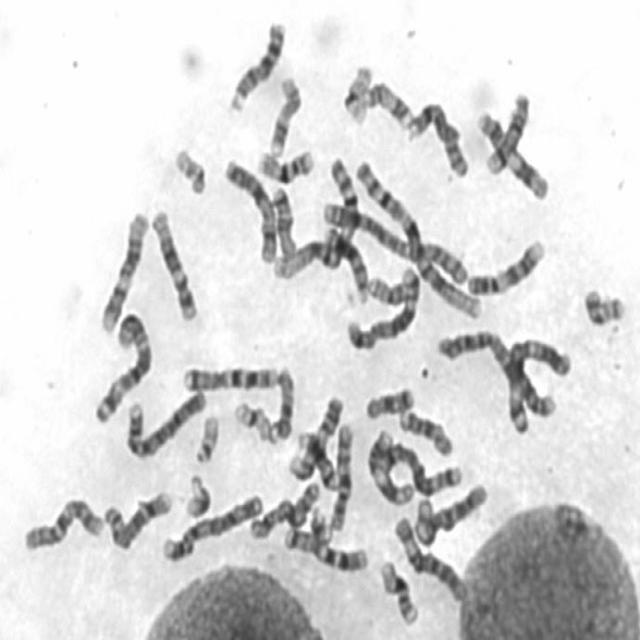A1: (344, 154, 483, 322), (270, 148, 362, 283)
A2: (318, 193, 476, 291), (432, 324, 560, 420)
A3: (89, 304, 154, 427), (502, 330, 574, 436)
B4: (157, 487, 265, 566), (120, 383, 208, 461)
B5: (342, 258, 422, 353), (372, 434, 464, 497)
C10: (16, 490, 106, 554), (326, 416, 356, 534)
C11: (472, 104, 550, 202), (363, 422, 417, 507)
C12: (94, 204, 151, 335), (147, 201, 200, 323)
C6: (390, 509, 469, 604), (410, 476, 490, 548)
C7: (278, 519, 371, 575), (178, 358, 280, 394)
C8: (402, 94, 470, 180), (99, 484, 175, 552)
C9: (463, 231, 548, 299), (284, 391, 345, 482)
D13: (224, 13, 288, 114), (319, 219, 371, 305)
D14: (481, 84, 532, 176), (294, 425, 340, 492)
D15: (394, 402, 455, 458), (268, 361, 297, 444)
E16: (374, 553, 420, 628), (252, 142, 316, 184)
E17: (264, 69, 304, 158), (360, 74, 414, 130)
E18: (267, 180, 298, 262), (361, 380, 416, 422)
F19: (338, 57, 374, 126), (228, 394, 274, 442)
F20: (578, 280, 628, 328), (363, 266, 412, 308)
G21: (180, 468, 214, 520), (305, 500, 334, 546)
G22: (169, 140, 208, 196), (190, 406, 221, 465)
X: (220, 151, 278, 266), (245, 473, 323, 542)
